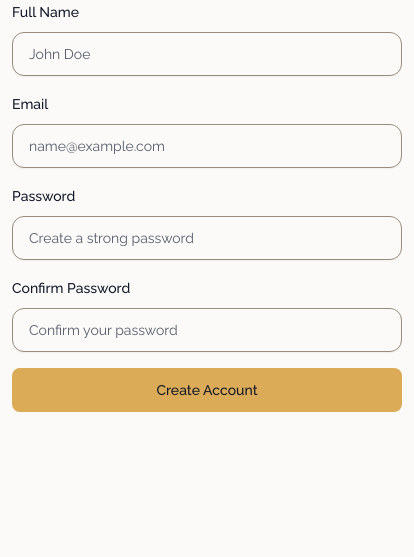
Scenario: SignupForm › does not reveal that the email is already registered
The width and height of the screenshot is (414, 557).
Step 1. Type "Test User" into the field labelled "Full Name" → (207, 54), box x1=12 y1=32 x2=402 y2=76
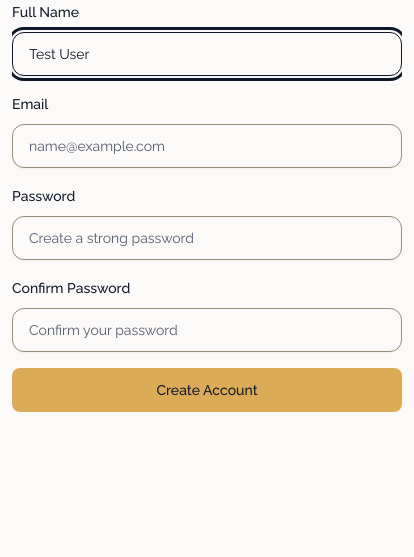
Step 2. Type "a@b.com" into the field labelled "Email" → (207, 146), box x1=12 y1=124 x2=402 y2=168
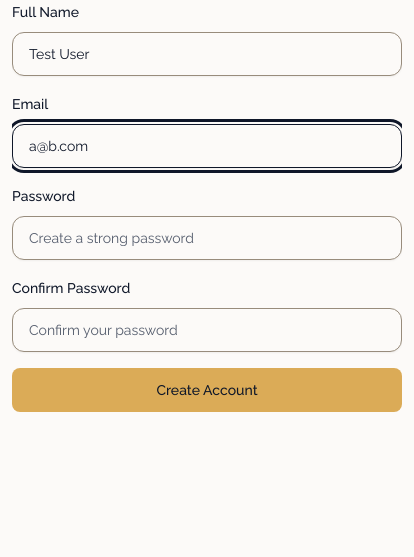
Step 3. Type "ValidPass1" into the password field labelled "Password" → (207, 238), box x1=12 y1=216 x2=402 y2=260
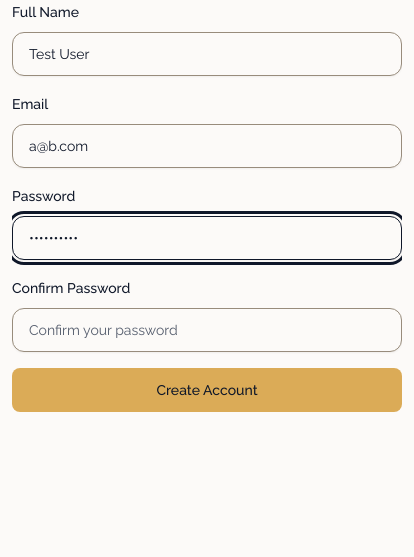
Step 4. Type "ValidPass1" into the password field labelled "Confirm Password" → (207, 330), box x1=12 y1=308 x2=402 y2=352
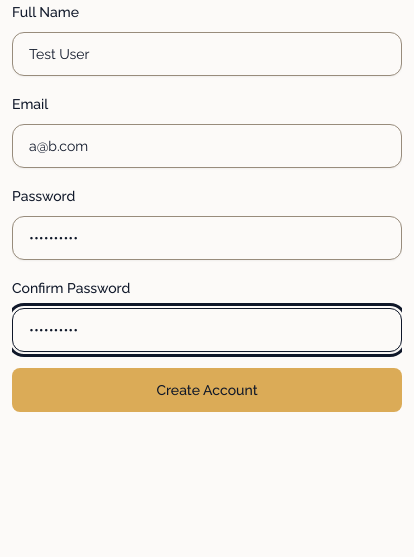
Step 5. Click the button "Create Account" → (207, 390), box x1=12 y1=368 x2=402 y2=412
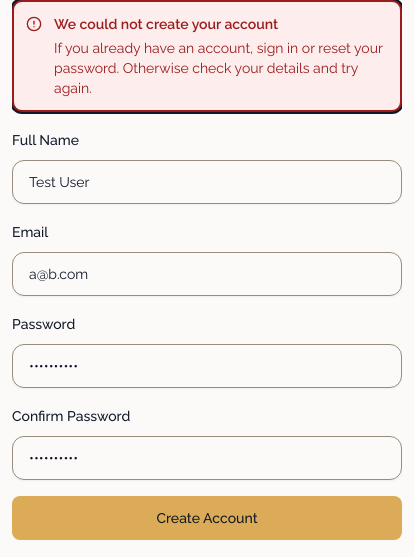
Expected: the message shows "We could not create your account", x1=54 y1=16 x2=278 y2=32
